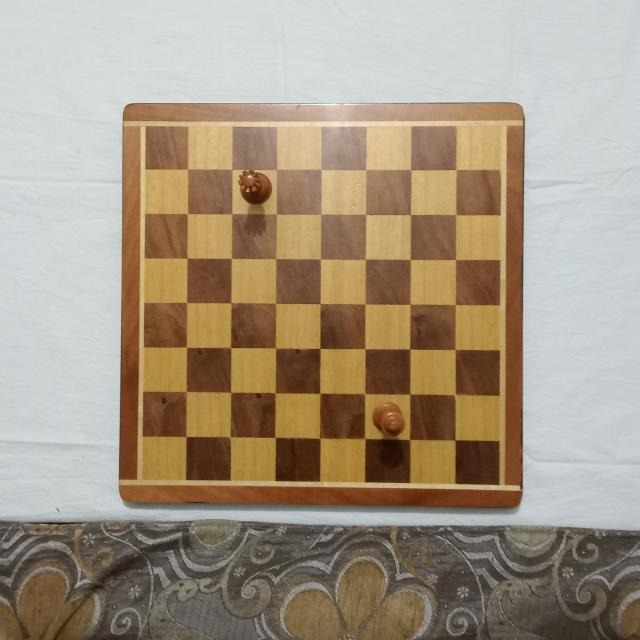white-king: (371, 399, 408, 437)
white-queen: (236, 169, 272, 206)
